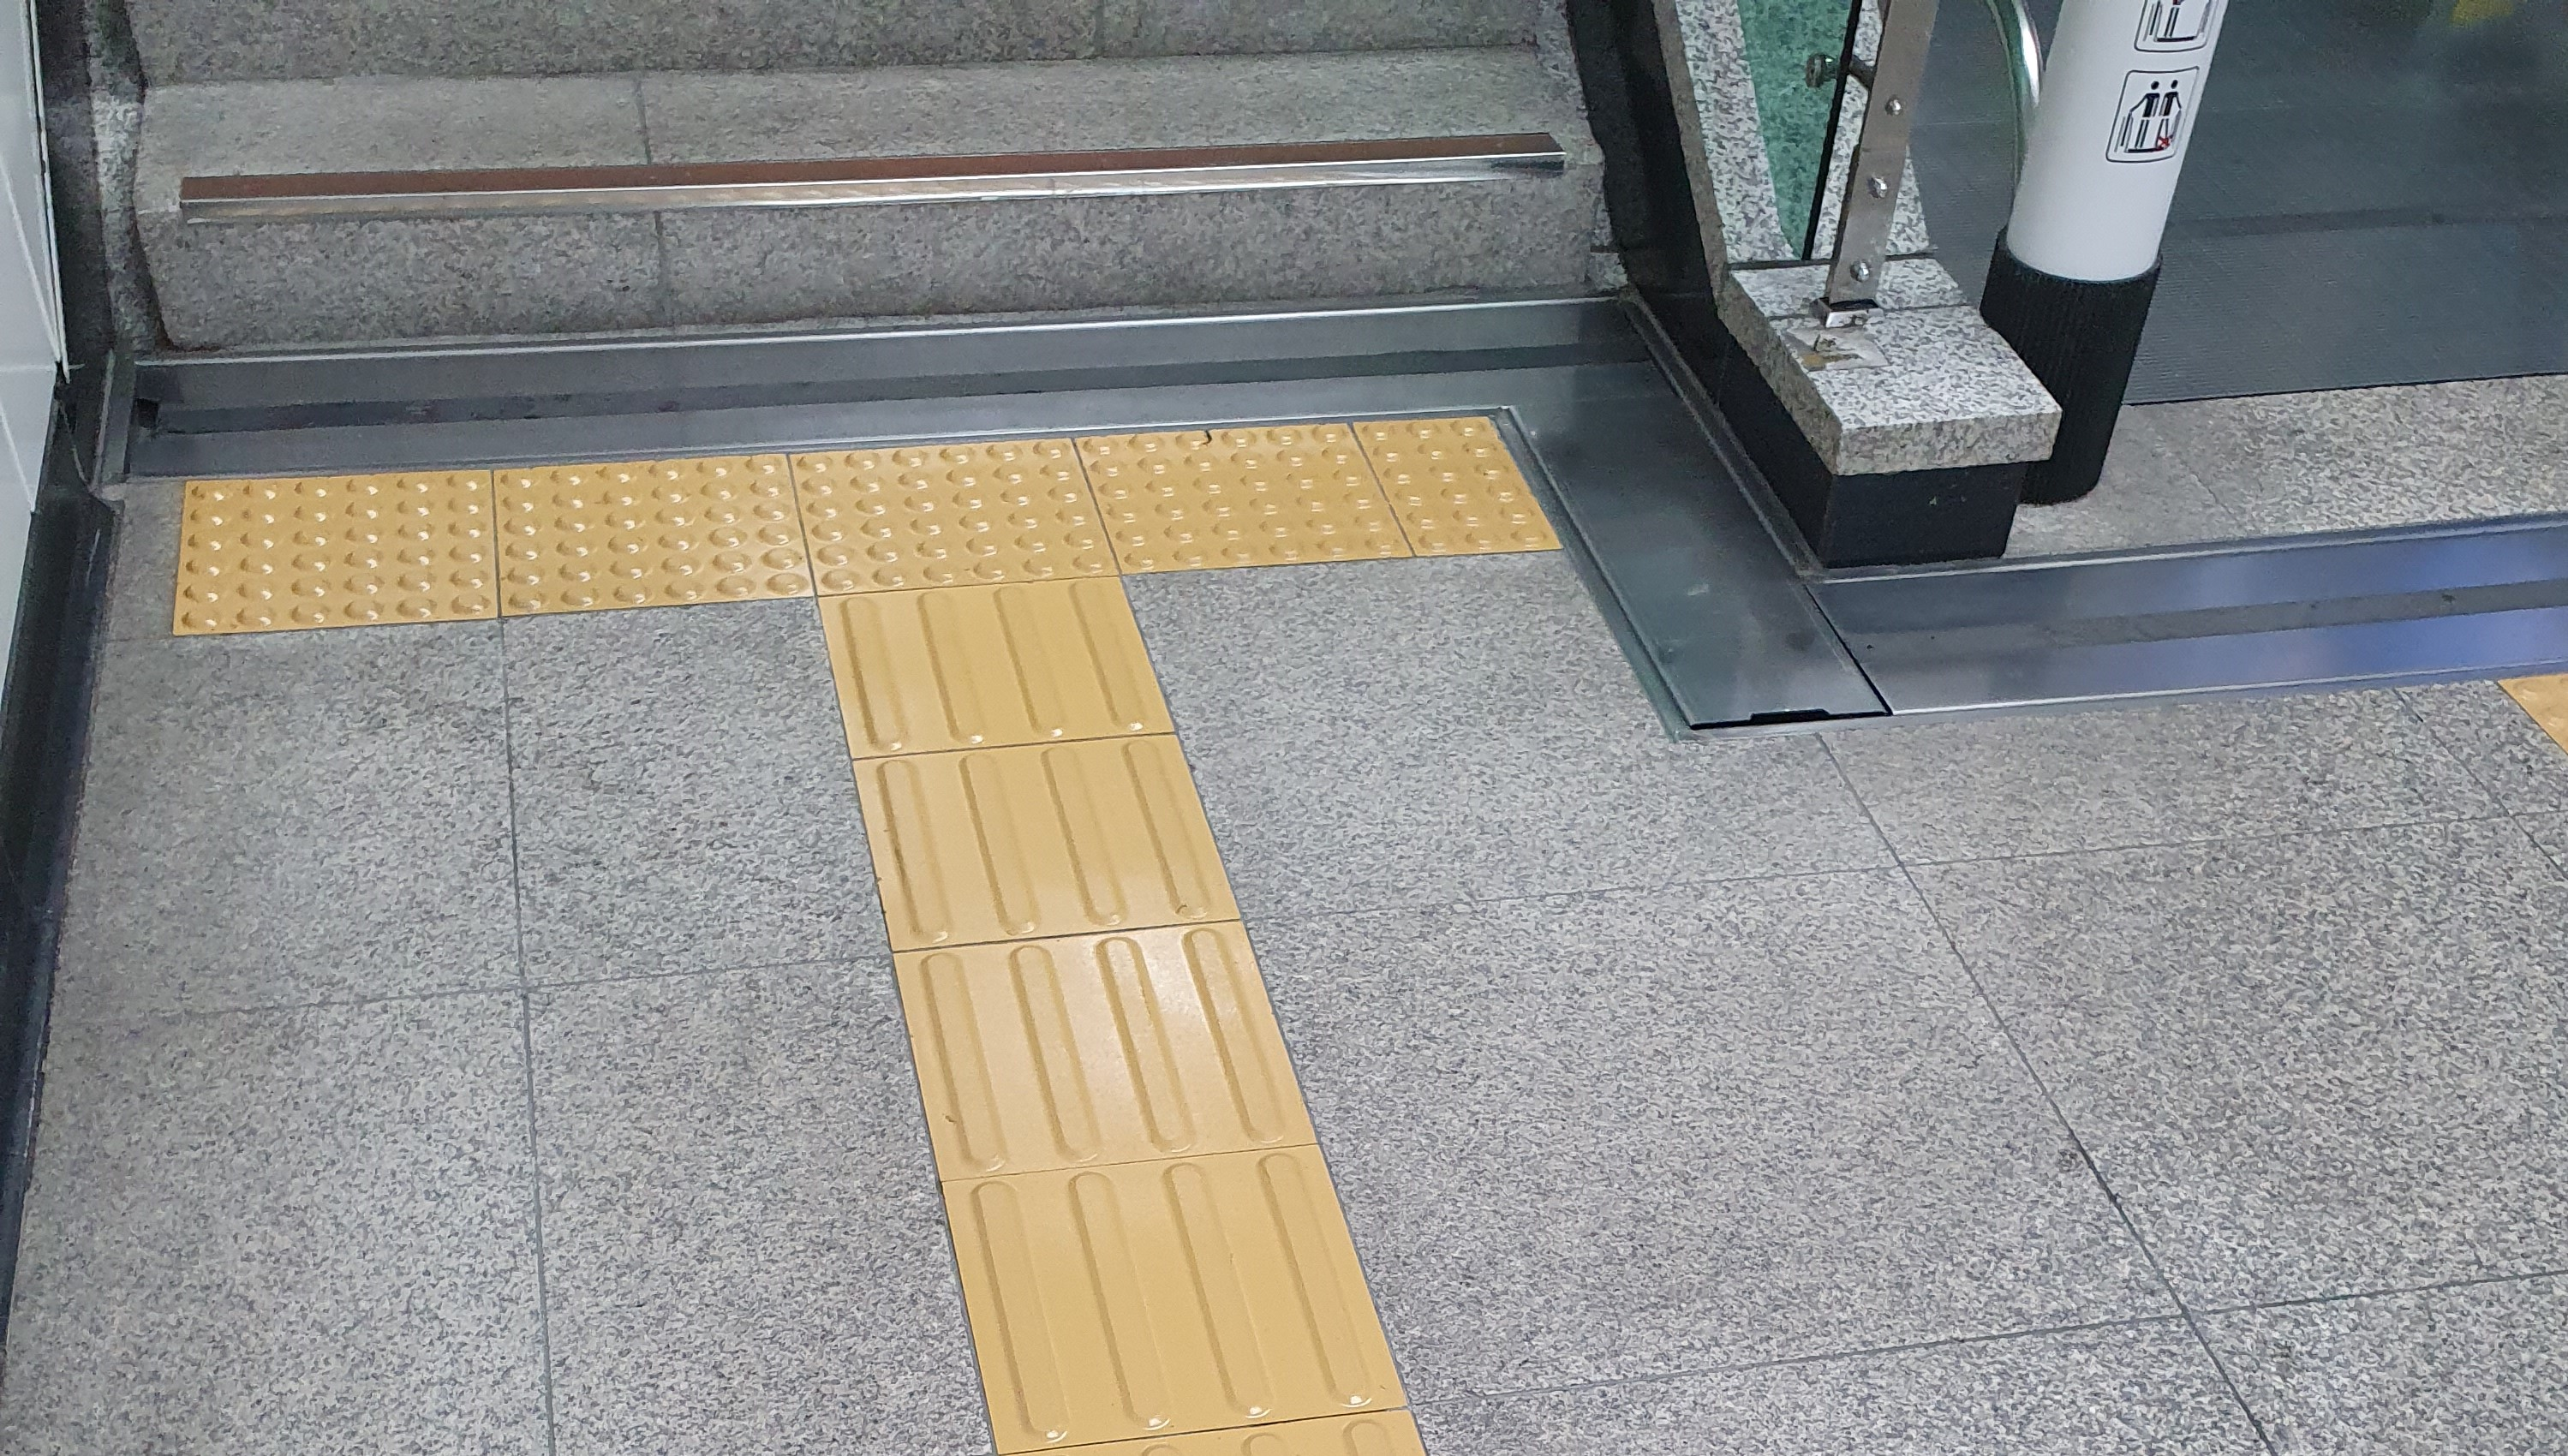guideBlock: (968, 1167, 1402, 1440), (896, 940, 1259, 1153), (873, 742, 1217, 948), (845, 587, 1134, 740)
warningBlock: (157, 464, 483, 643), (487, 435, 808, 606), (1102, 420, 1400, 582), (795, 448, 1101, 594), (1367, 416, 1563, 559)
